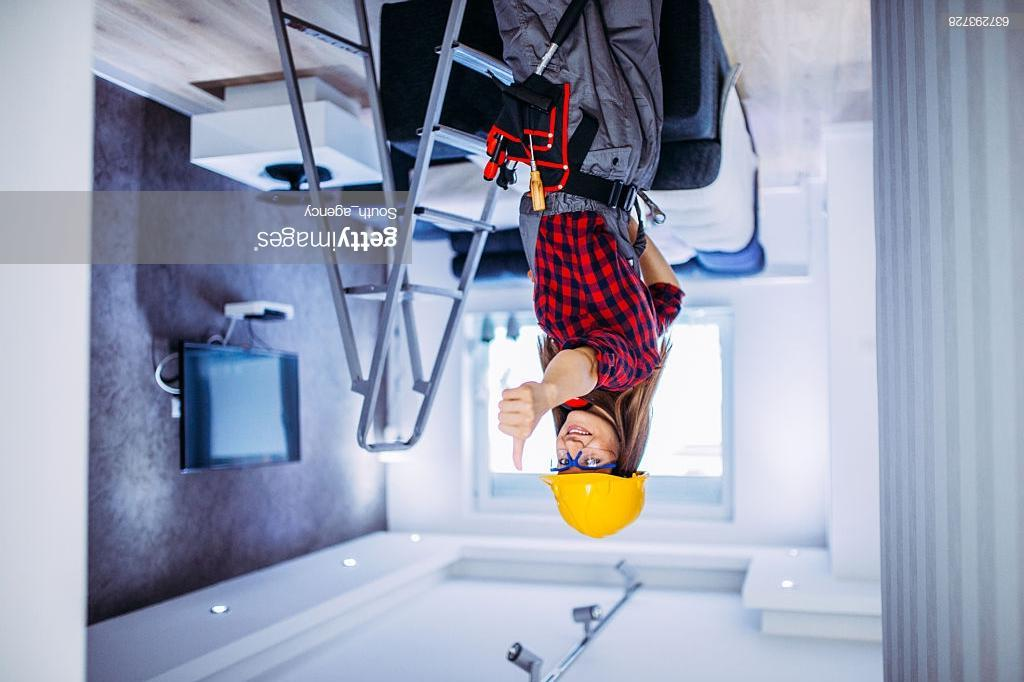thumbsdown: (498, 384, 537, 472)
